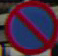No waiting: (4, 4, 53, 49)
